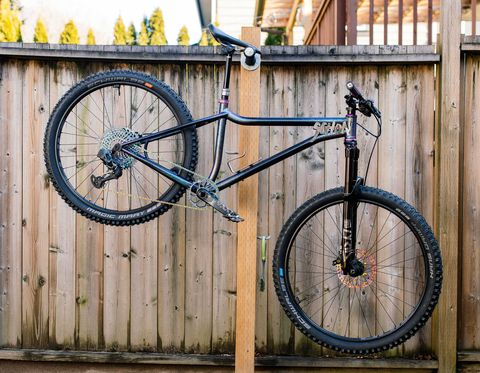bike: (43, 22, 443, 356)
